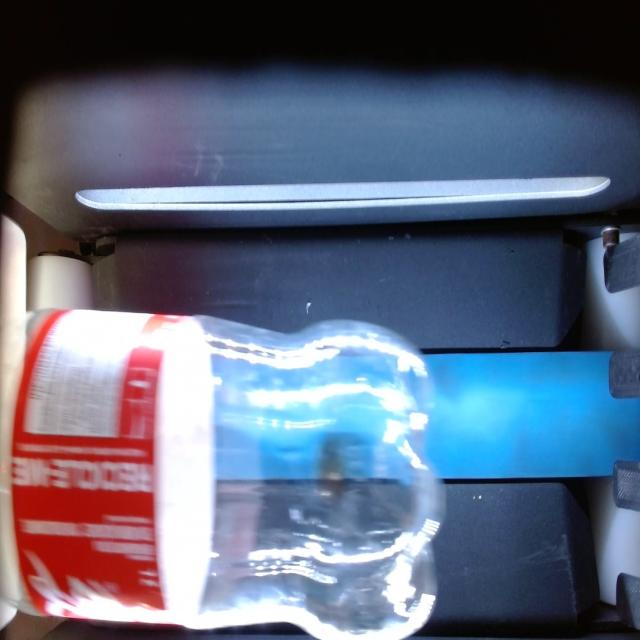bottle: (11, 311, 444, 638)
